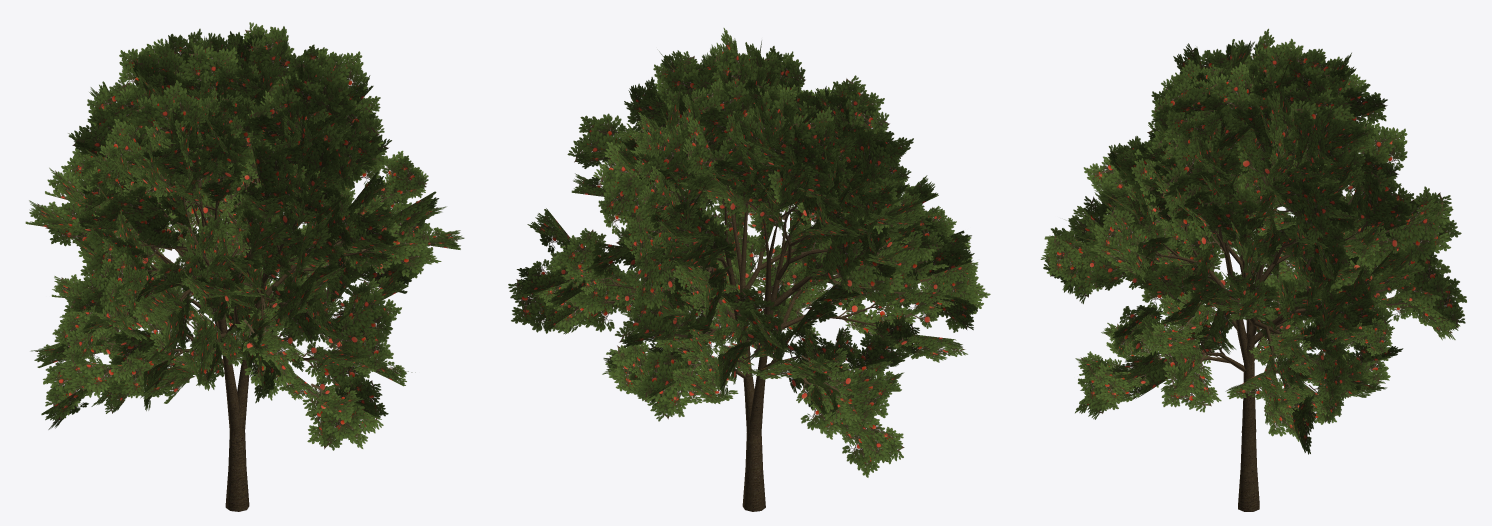
File: apple_tree.glb
The picture shows the model from 3 angles, left to right: view 1: azimuth 30°, elevation 25°; view 2: azimuth 150°, elevation 25°; view 3: azimuth 270°, elevation 25°; orthographic projection. The views are drawn at different scales.
Visible parts, largest first — view 1: Object_4; view 2: Object_4; view 3: Object_4.
Boxes of the visible parts, x1,y1,x2,y2 form: Object_4: (25,22,464,511); Object_4: (508,28,990,511); Object_4: (1040,28,1466,511).
Size of the model in its own units: 12.89 by 12.97 by 11.46.
2 materials, 2 textured.
